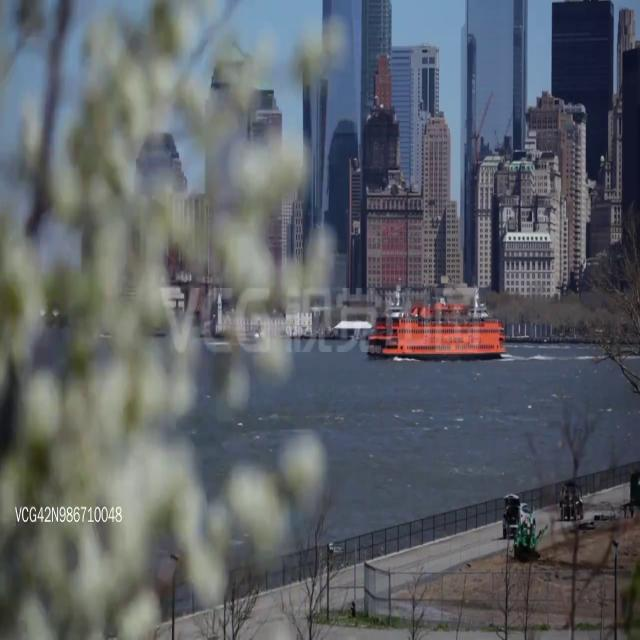passenger ship: (367, 286, 502, 365)
